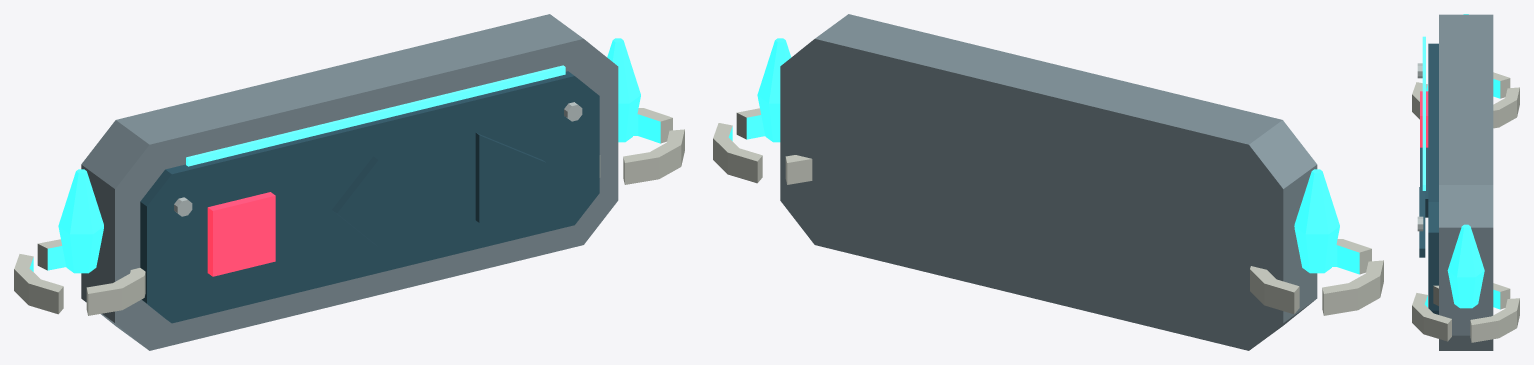
File: City_TrafficSignal.glb
3 renders of one model, left to right at view 1: azimuth 30°, elevation 25°; view 2: azimuth 150°, elevation 25°; view 3: azimuth 270°, elevation 25°, orthographic. The views are drawn at different scales.
Visible parts, largest first — view 1: City_TrafficSignal_HoverHousing, City_TrafficSignal_FieldStabilizer_L, City_TrafficSignal_FieldStabilizer_R, City_TrafficSignal_StopGlyph, City_TrafficSignal_WaitGlyph, City_TrafficSignal_GoGlyph; view 2: City_TrafficSignal_HoverHousing, City_TrafficSignal_FieldStabilizer_L, City_TrafficSignal_FieldStabilizer_R; view 3: City_TrafficSignal_HoverHousing, City_TrafficSignal_FieldStabilizer_R, City_TrafficSignal_FieldStabilizer_L, City_TrafficSignal_GoGlyph, City_TrafficSignal_WaitGlyph, City_TrafficSignal_StopGlyph.
Part boxes in pixels (bbox=[...]): City_TrafficSignal_HoverHousing: bbox=[81, 14, 618, 350]; City_TrafficSignal_FieldStabilizer_L: bbox=[14, 169, 145, 315]; City_TrafficSignal_FieldStabilizer_R: bbox=[599, 38, 684, 184]; City_TrafficSignal_StopGlyph: bbox=[207, 192, 275, 276]; City_TrafficSignal_WaitGlyph: bbox=[332, 156, 419, 246]; City_TrafficSignal_GoGlyph: bbox=[475, 133, 546, 222]; City_TrafficSignal_HoverHousing: bbox=[780, 14, 1317, 350]; City_TrafficSignal_FieldStabilizer_L: bbox=[1250, 169, 1383, 315]; City_TrafficSignal_FieldStabilizer_R: bbox=[713, 38, 812, 184]; City_TrafficSignal_HoverHousing: bbox=[1417, 14, 1493, 350]; City_TrafficSignal_FieldStabilizer_R: bbox=[1412, 224, 1519, 342]; City_TrafficSignal_FieldStabilizer_L: bbox=[1412, 14, 1519, 128]; City_TrafficSignal_GoGlyph: bbox=[1419, 187, 1425, 257]; City_TrafficSignal_WaitGlyph: bbox=[1420, 147, 1428, 217]; City_TrafficSignal_StopGlyph: bbox=[1420, 91, 1428, 147].
Size of the model in its own units: 3.12 by 0.94 by 0.5533.
